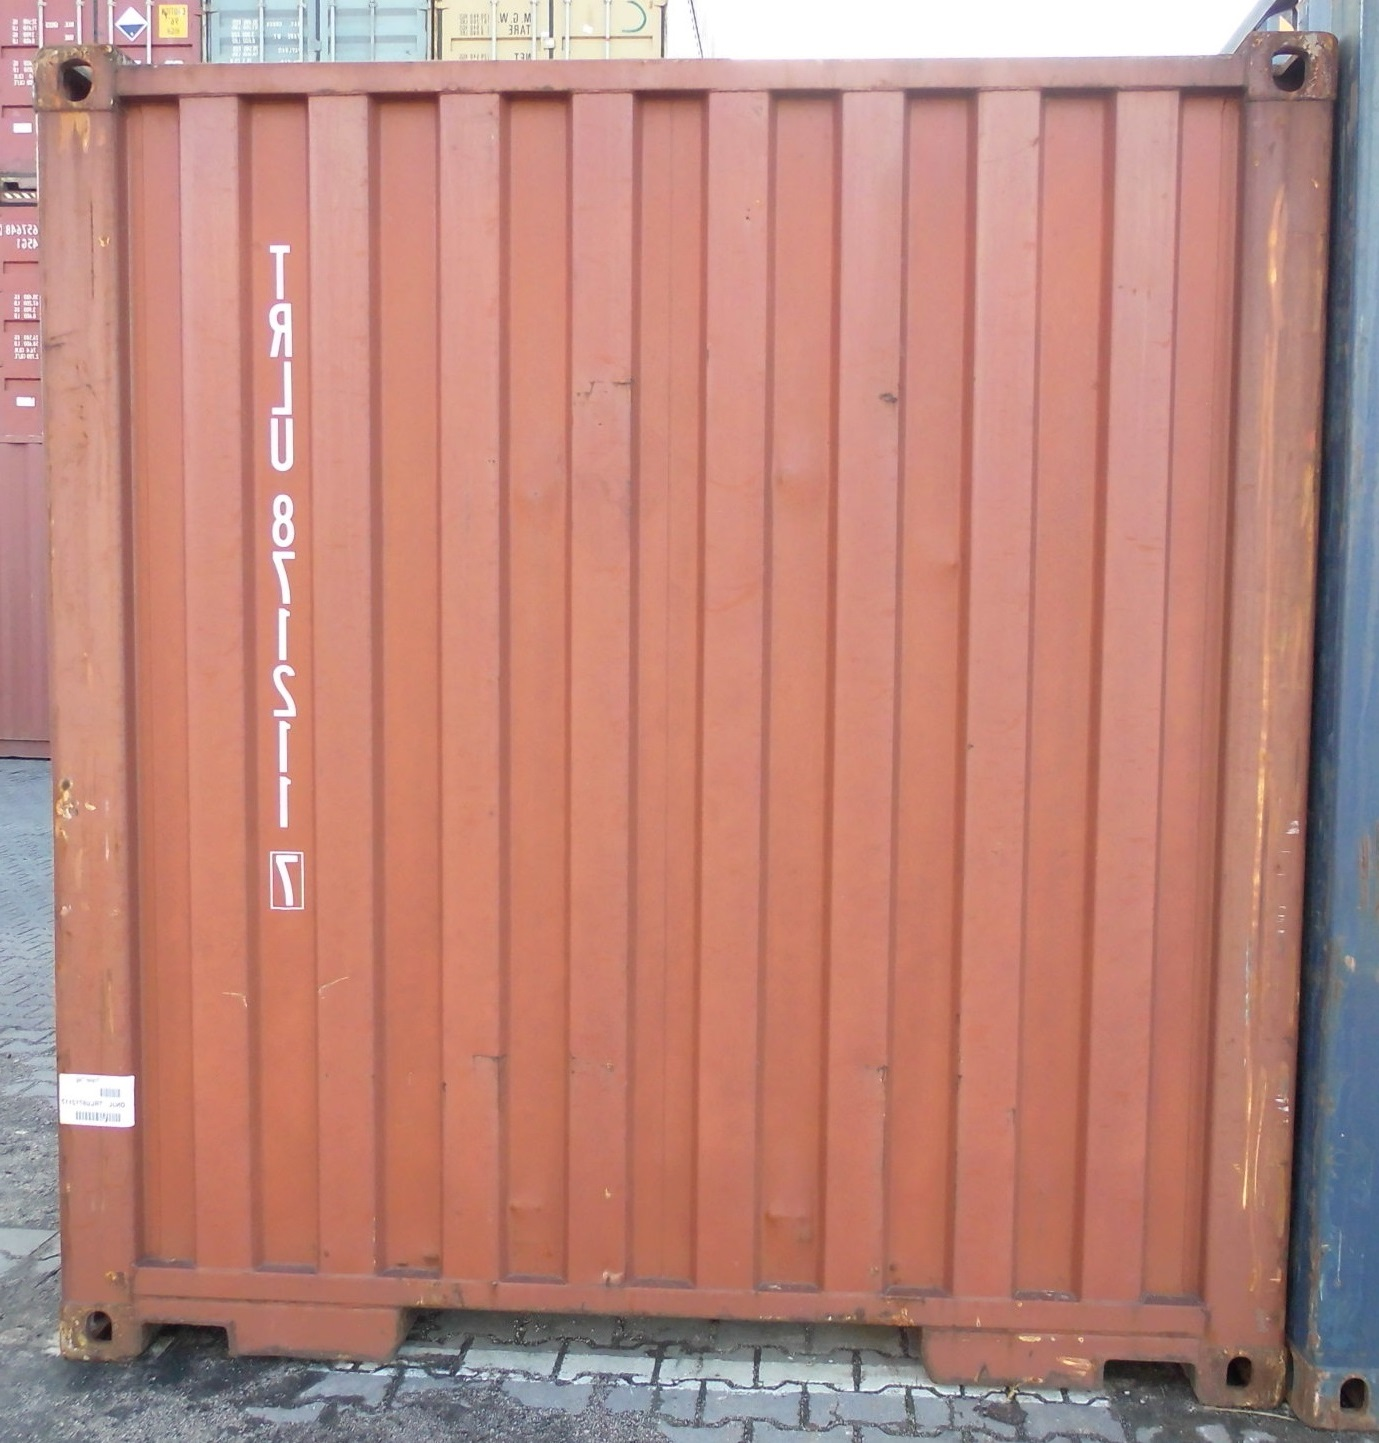container_no_door: (45, 35, 1333, 1359)
